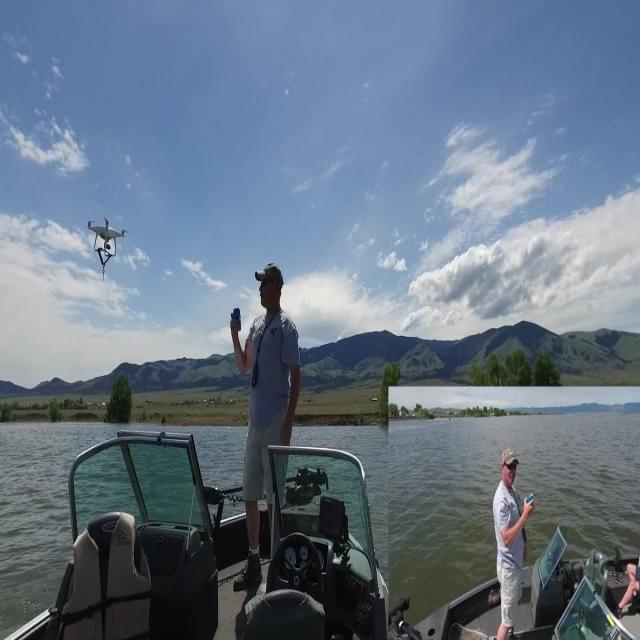UAV: (85, 217, 128, 281)
